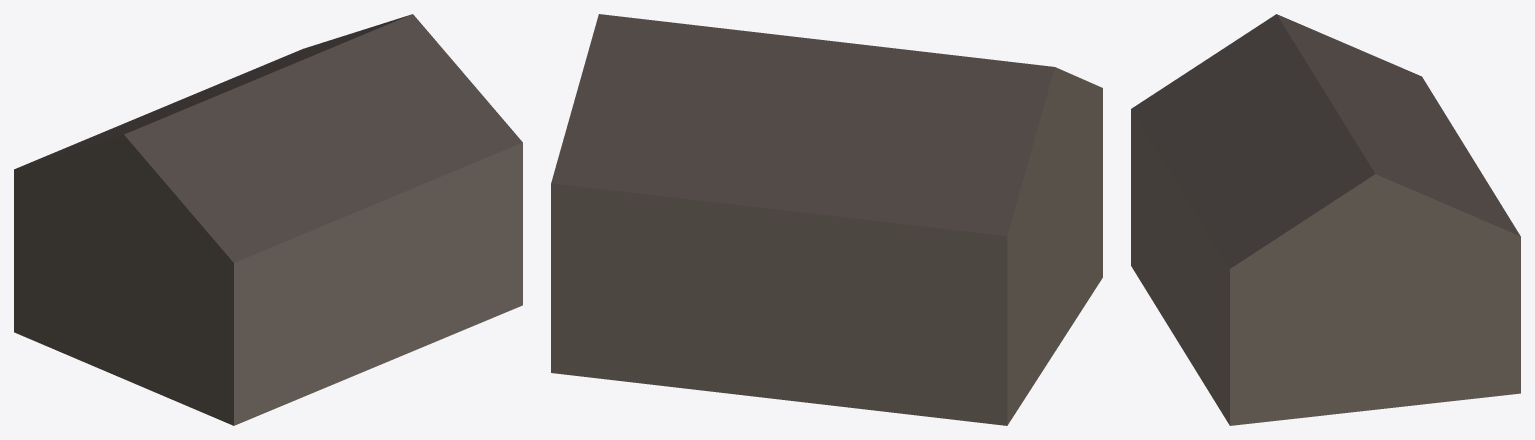
3 views of the same model, side by side, from view 1: azimuth 30°, elevation 25°; view 2: azimuth 150°, elevation 25°; view 3: azimuth 270°, elevation 25° (orthographic). The views are drawn at different scales.
Parts seen in each view (by area): view 1: HP-w1196981386; view 2: HP-w1196981386; view 3: HP-w1196981386.
Boxes of the visible parts, left/top/right/bottom form: HP-w1196981386: left=14, top=14, right=522, bottom=425; HP-w1196981386: left=551, top=14, right=1102, bottom=425; HP-w1196981386: left=1131, top=14, right=1520, bottom=425.
Size of the model in its own units: 15.78 by 9.01 by 13.5.
